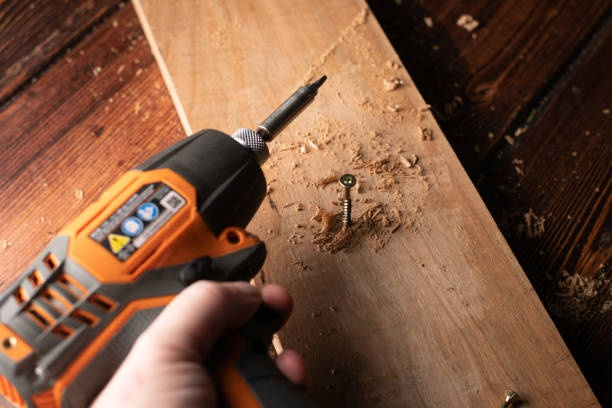driller: (1, 71, 331, 408)
